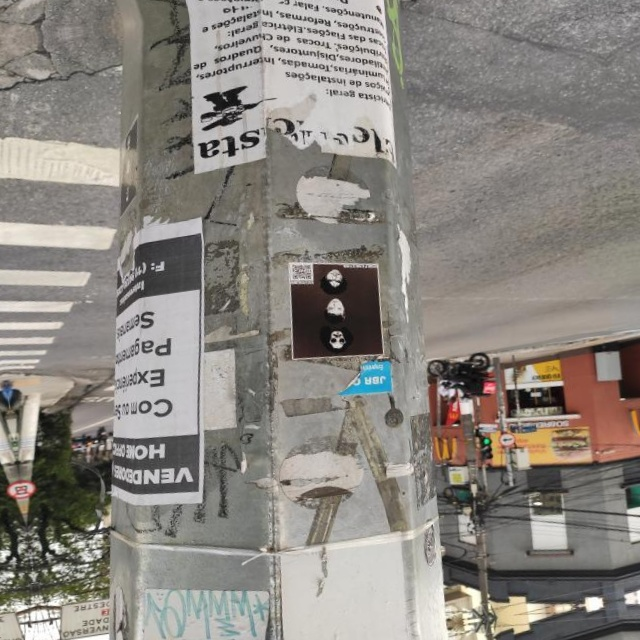qr-code: (291, 262, 312, 281)
